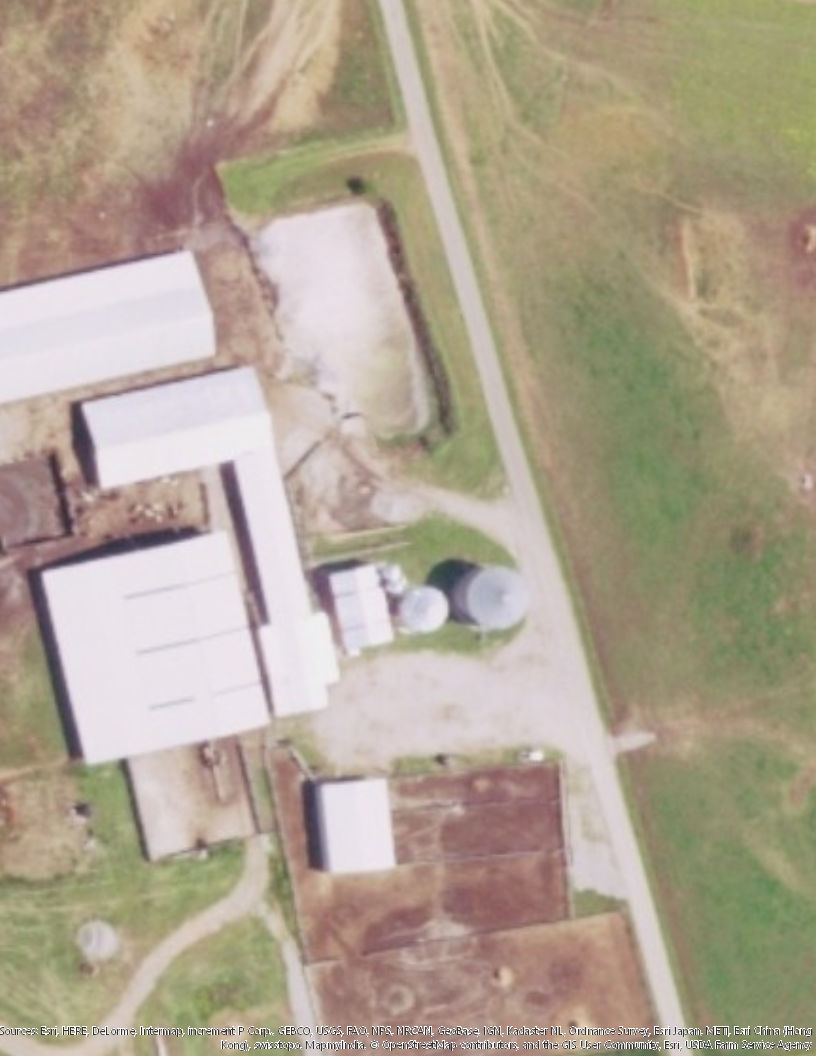cafo: (55, 361, 342, 774), (1, 238, 238, 424)
